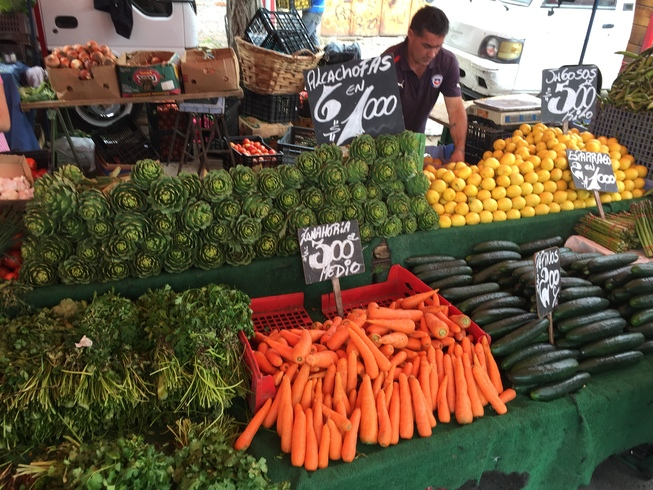precio: (302, 52, 411, 147), (290, 215, 369, 288), (535, 63, 602, 126), (563, 141, 618, 198), (526, 244, 565, 319)
